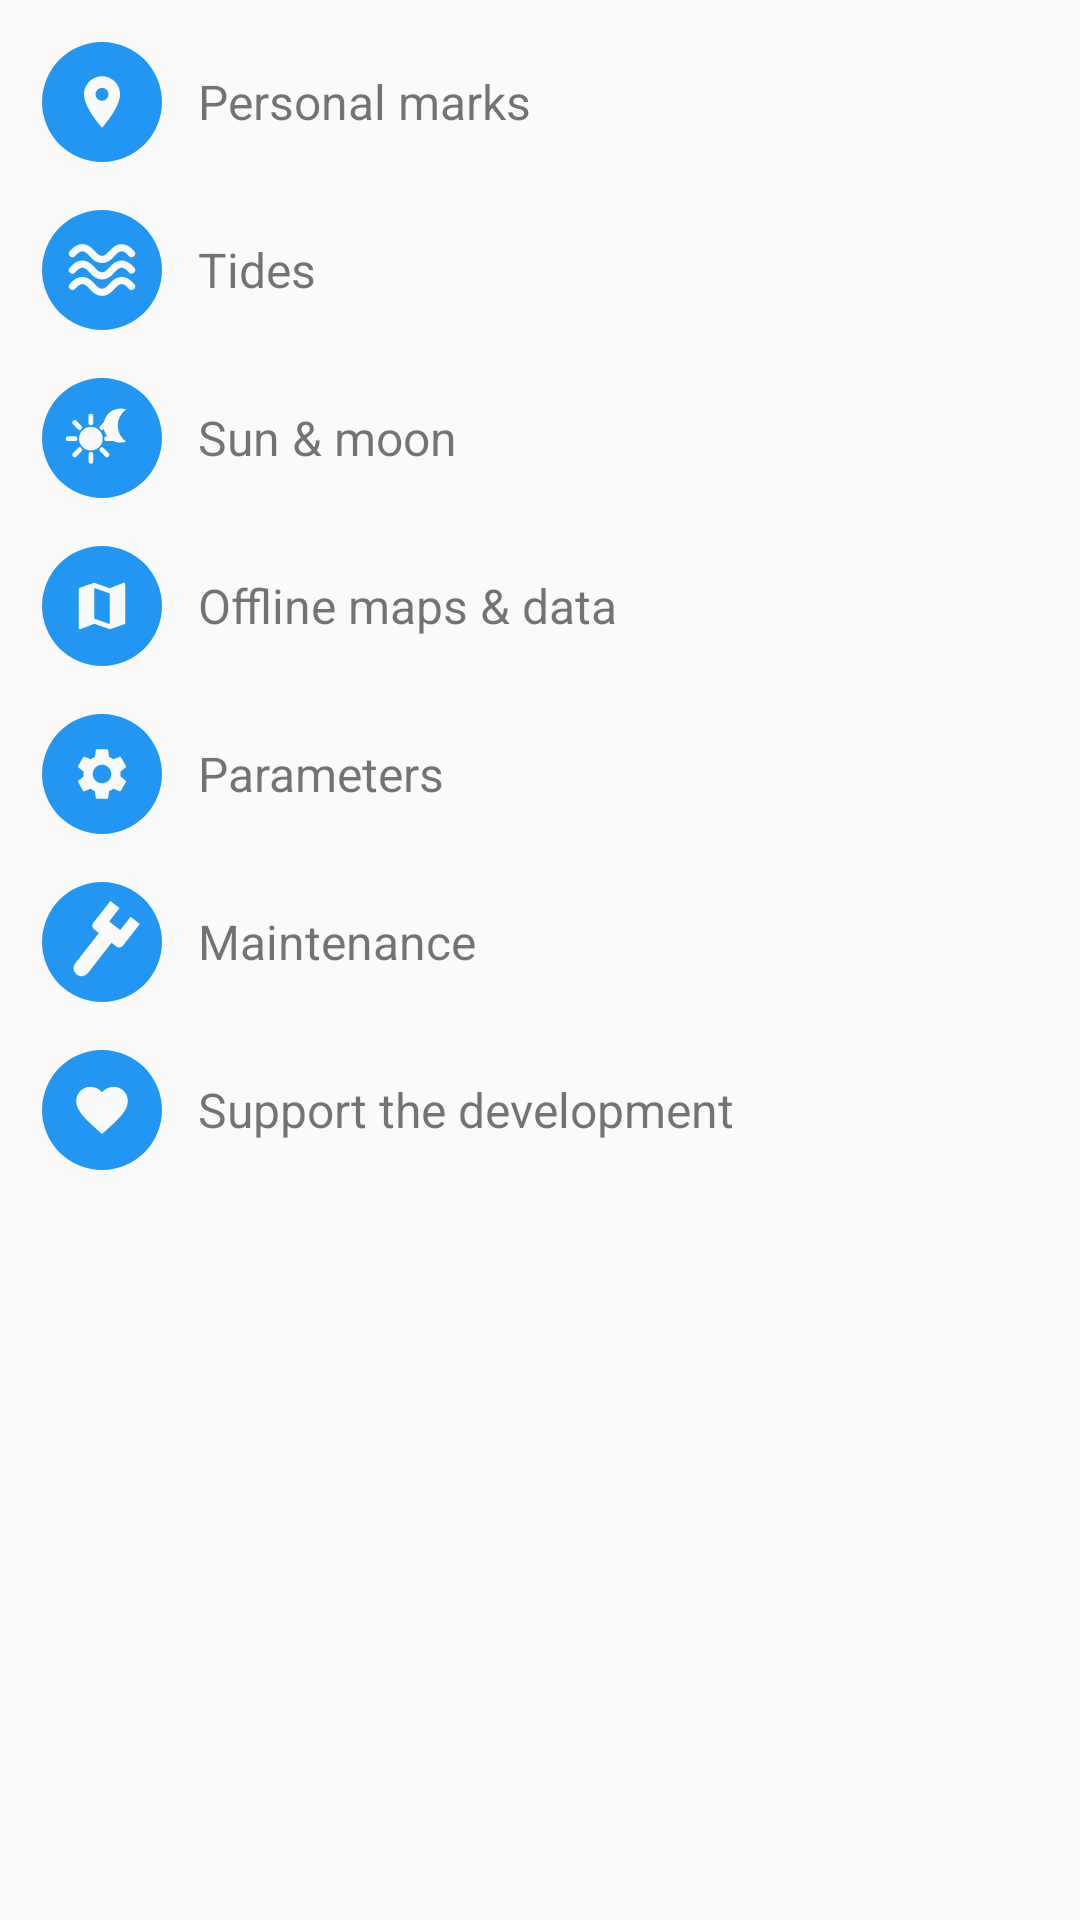

Icon click points for this 1080x1920 phone screenshot, format (x,y):
params: (102,774)
